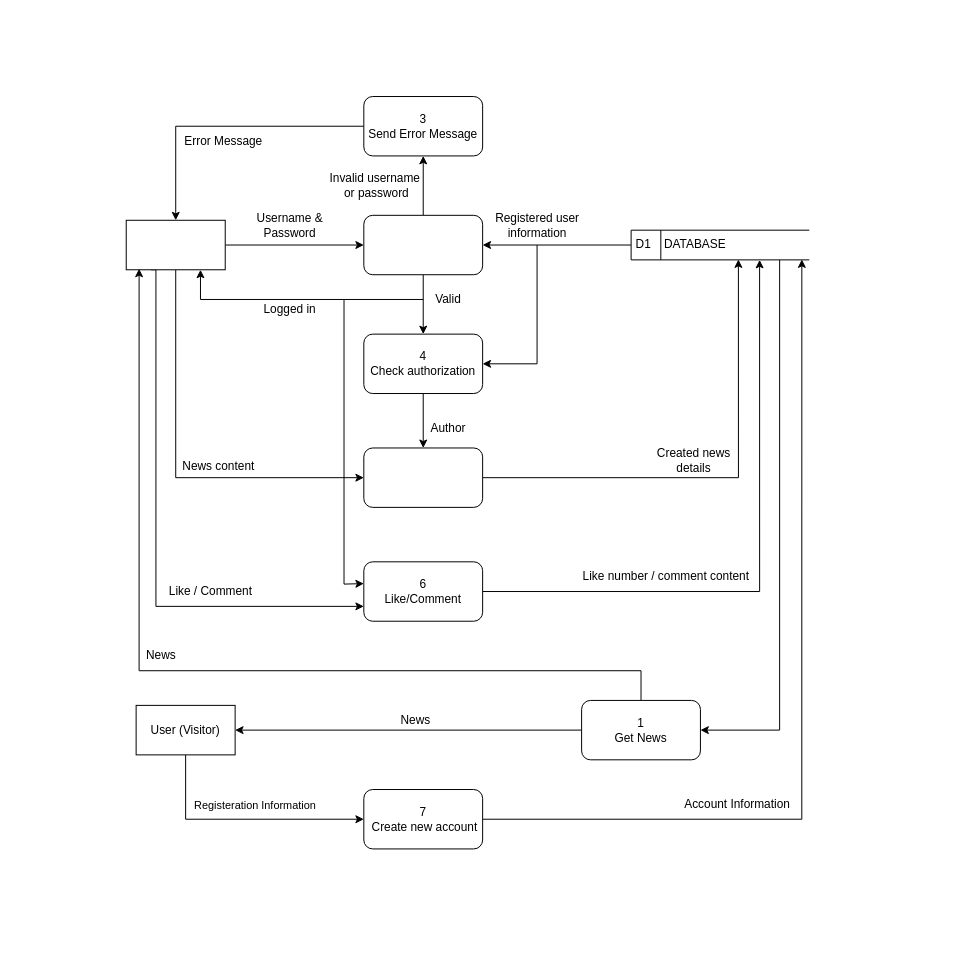
Image size: 954x974. Some labels were removed from this diagram. The centre of each missing label's shape, as x and y in pixels:
"2 Check Username and Password" goes at (x=423, y=244).
"5 Create news" goes at (x=423, y=477).
"User (Member/Author)" goes at (x=175, y=244).
